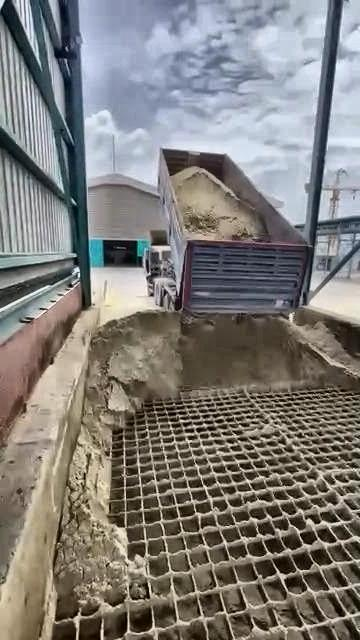sand: (55, 311, 356, 615), (172, 166, 268, 238), (299, 321, 360, 374)
